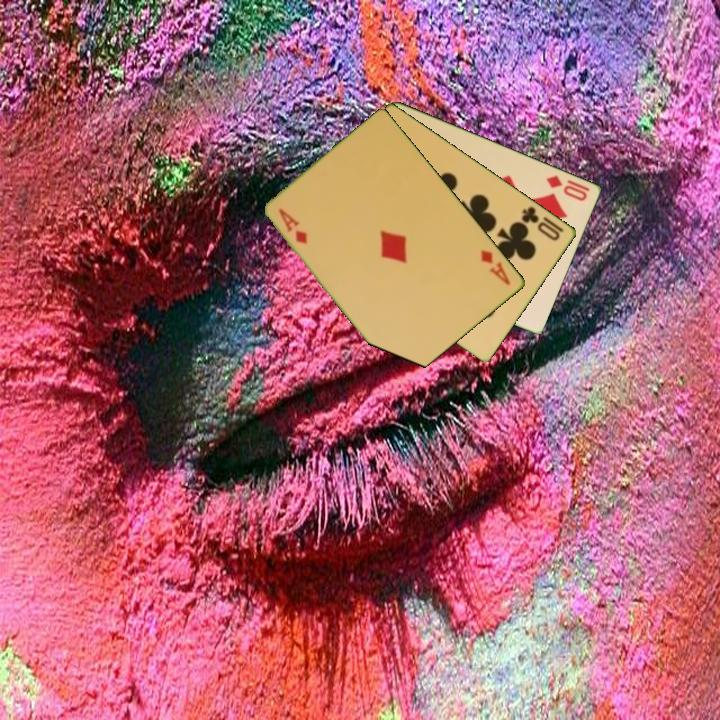10c: (518, 203, 563, 244)
10d: (543, 171, 593, 204)
Ad: (477, 246, 514, 288), (275, 205, 311, 247)
